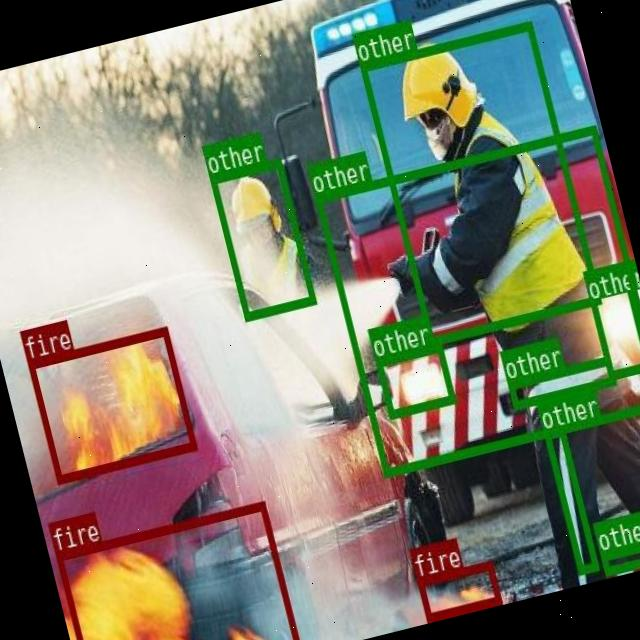fire: (54, 500, 299, 640), (26, 324, 196, 482), (416, 560, 499, 620)
